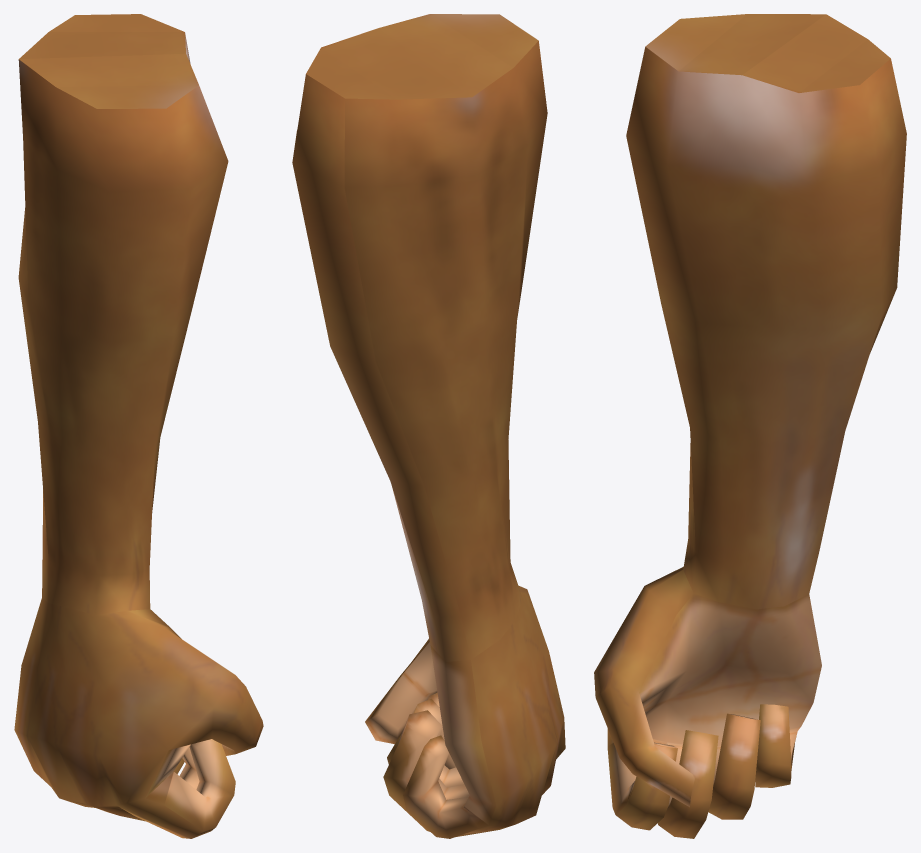
File: arm_and_hand_grab.obj
3 views of the same model, side by side, from view 1: azimuth 30°, elevation 25°; view 2: azimuth 150°, elevation 25°; view 3: azimuth 270°, elevation 25° (orthographic). The views are drawn at different scales.
Visible parts, largest first — view 1: Arm_Cube; view 2: Arm_Cube; view 3: Arm_Cube.
Part boxes in pixels (left/top/right/bottom): Arm_Cube: left=14, top=14, right=263, bottom=838; Arm_Cube: left=292, top=14, right=565, bottom=838; Arm_Cube: left=594, top=14, right=906, bottom=838.
Bounding box in the file's own units: 0.1077 × 0.3927 × 0.1433.
Materials: 1 (1 with a texture image).
